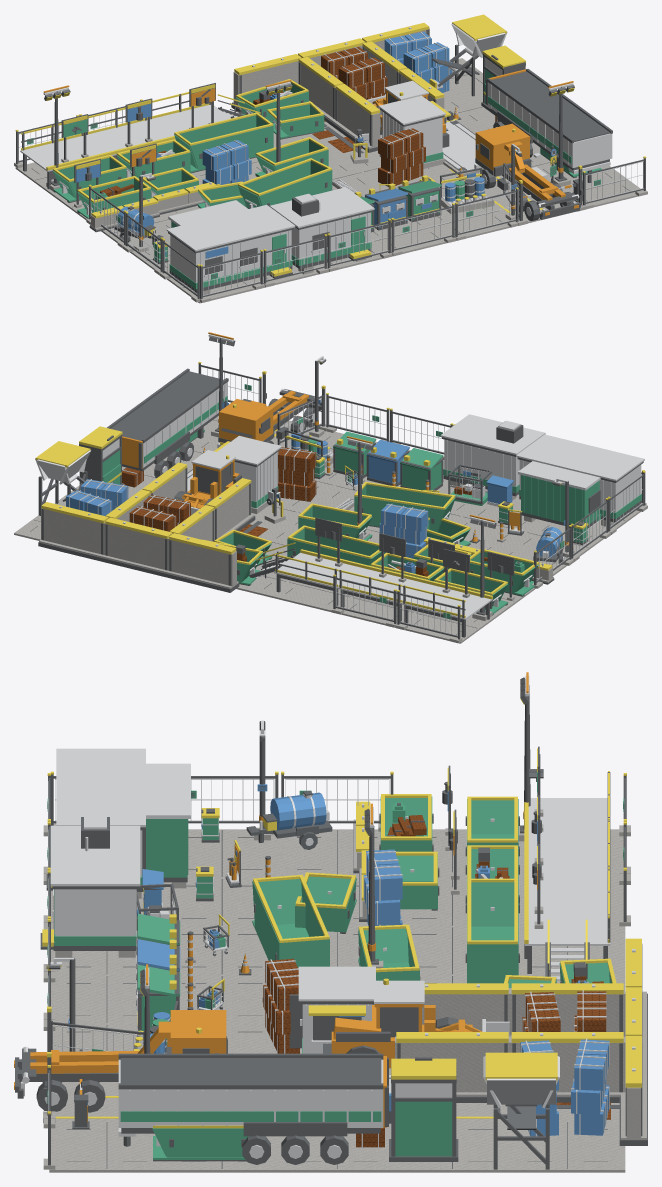
The model's file is Recycling Centre and Waste Transfer Yard.glb.
The picture shows the model from 3 angles, top to bottom: view 1: azimuth 30°, elevation 25°; view 2: azimuth 150°, elevation 25°; view 3: azimuth 270°, elevation 25°; orthographic projection. The views are drawn at different scales.
Parts seen in each view (by area): view 1: 111-recycling-and-waste-transfer-yard-site-office-cabin/2, 099-recycling-and-waste-transfer-yard-transfer-trailer/0, 112-recycling-and-waste-transfer-yard-staff-welfare-cabin/2, 099-recycling-and-waste-transfer-yard-transfer-trailer/1, 104-recycling-and-waste-transfer-yard-open-top-skip-large/0, 041-recycling-and-waste-transfer-yard-open-top-skip-large/0, 074-recycling-and-waste-transfer-yard-weighbridge-control-ca, 103-recycling-and-waste-transfer-yard-cardboard-bale-stack/0, 036-recycling-and-waste-transfer-yard-skip-platform-section/ (×2), 035-recycling-and-waste-transfer-yard-skip-platform-section/ (×2), 087-recycling-and-waste-transfer-yard-material-bay-divider-w (×2), 107-recycling-and-waste-transfer-yard-plastic-bale-stack/0 (+73 smaller); view 2: 099-recycling-and-waste-transfer-yard-transfer-trailer/0, 111-recycling-and-waste-transfer-yard-site-office-cabin/2, 112-recycling-and-waste-transfer-yard-staff-welfare-cabin/2, 083-recycling-and-waste-transfer-yard-material-bay-divider-w (×3), 084-recycling-and-waste-transfer-yard-material-bay-divider-w (×3), 085-recycling-and-waste-transfer-yard-material-bay-divider-w (×3), 035-recycling-and-waste-transfer-yard-skip-platform-section/ (×3), 037-recycling-and-waste-transfer-yard-skip-platform-section/ (×3), 059-recycling-and-waste-transfer-yard-reuse-shop-cabin/2, 036-recycling-and-waste-transfer-yard-skip-platform-section/ (×3), 074-recycling-and-waste-transfer-yard-weighbridge-control-ca, 104-recycling-and-waste-transfer-yard-open-top-skip-large/0 (+67 smaller); view 3: 099-recycling-and-waste-transfer-yard-transfer-trailer/0, 112-recycling-and-waste-transfer-yard-staff-welfare-cabin/2, 099-recycling-and-waste-transfer-yard-transfer-trailer/1, 111-recycling-and-waste-transfer-yard-site-office-cabin/2, 074-recycling-and-waste-transfer-yard-weighbridge-control-ca (×2), 034-recycling-and-waste-transfer-yard-yard-ground-tile/0, 041-recycling-and-waste-transfer-yard-open-top-skip-large/0, 030-recycling-and-waste-transfer-yard-yard-ground-tile/0, 104-recycling-and-waste-transfer-yard-open-top-skip-large/0, 089-recycling-and-waste-transfer-yard-material-bay-divider-w (×2), 019-recycling-and-waste-transfer-yard-yard-ground-tile/0, 037-recycling-and-waste-transfer-yard-skip-platform-section/ (+74 smaller).
Boxes of the visible parts, box(x1,y1,x2,y2) form: 111-recycling-and-waste-transfer-yard-site-office-cabin/2: box(166, 204, 295, 285); 099-recycling-and-waste-transfer-yard-transfer-trailer/0: box(486, 69, 612, 182); 112-recycling-and-waste-transfer-yard-staff-welfare-cabin/2: box(269, 187, 374, 263); 099-recycling-and-waste-transfer-yard-transfer-trailer/1: box(487, 82, 612, 174); 104-recycling-and-waste-transfer-yard-open-top-skip-large/0: box(238, 161, 332, 208); 041-recycling-and-waste-transfer-yard-open-top-skip-large/0: box(174, 115, 273, 172); 074-recycling-and-waste-transfer-yard-weighbridge-control-ca: box(378, 95, 445, 155); 103-recycling-and-waste-transfer-yard-cardboard-bale-stack/0: box(378, 128, 425, 186); 036-recycling-and-waste-transfer-yard-skip-platform-section/ (×2): box(86, 107, 175, 155); 035-recycling-and-waste-transfer-yard-skip-platform-section/ (×2): box(20, 123, 111, 171); 087-recycling-and-waste-transfer-yard-material-bay-divider-w (×2): box(332, 84, 380, 148); 107-recycling-and-waste-transfer-yard-plastic-bale-stack/0: box(202, 140, 251, 184); 099-recycling-and-waste-transfer-yard-transfer-trailer/0: box(106, 368, 228, 478); 111-recycling-and-waste-transfer-yard-site-office-cabin/2: box(516, 434, 644, 512); 112-recycling-and-waste-transfer-yard-staff-welfare-cabin/2: box(440, 414, 545, 486); 083-recycling-and-waste-transfer-yard-material-bay-divider-w (×3): box(166, 533, 239, 592); 084-recycling-and-waste-transfer-yard-material-bay-divider-w (×3): box(102, 517, 172, 577); 085-recycling-and-waste-transfer-yard-material-bay-divider-w (×3): box(38, 502, 108, 561); 035-recycling-and-waste-transfer-yard-skip-platform-section/ (×3): box(401, 580, 492, 637); 037-recycling-and-waste-transfer-yard-skip-platform-section/ (×3): box(274, 549, 364, 605); 059-recycling-and-waste-transfer-yard-reuse-shop-cabin/2: box(521, 475, 599, 524); 036-recycling-and-waste-transfer-yard-skip-platform-section/ (×3): box(338, 565, 428, 621); 074-recycling-and-waste-transfer-yard-weighbridge-control-ca: box(217, 435, 281, 506); 104-recycling-and-waste-transfer-yard-open-top-skip-large/0: box(354, 484, 455, 532); 099-recycling-and-waste-transfer-yard-transfer-trailer/0: box(118, 1053, 388, 1164); 112-recycling-and-waste-transfer-yard-staff-welfare-cabin/2: box(50, 816, 140, 936); 099-recycling-and-waste-transfer-yard-transfer-trailer/1: box(118, 1059, 383, 1158); 111-recycling-and-waste-transfer-yard-site-office-cabin/2: box(56, 748, 145, 877); 074-recycling-and-waste-transfer-yard-weighbridge-control-ca (×2): box(289, 966, 375, 1053); 034-recycling-and-waste-transfer-yard-yard-ground-tile/0: box(49, 1121, 164, 1172); 041-recycling-and-waste-transfer-yard-open-top-skip-large/0: box(467, 881, 518, 983); 030-recycling-and-waste-transfer-yard-yard-ground-tile/0: box(510, 1121, 625, 1172); 104-recycling-and-waste-transfer-yard-open-top-skip-large/0: box(252, 879, 329, 967); 089-recycling-and-waste-transfer-yard-material-bay-divider-w (×2): box(395, 1032, 509, 1096); 019-recycling-and-waste-transfer-yard-yard-ground-tile/0: box(51, 975, 137, 1023); 037-recycling-and-waste-transfer-yard-skip-platform-section/: box(525, 895, 610, 945).
Bounding box in the file's own units: 28.48 × 6.03 × 22.02.
8 materials, 2 textured.
